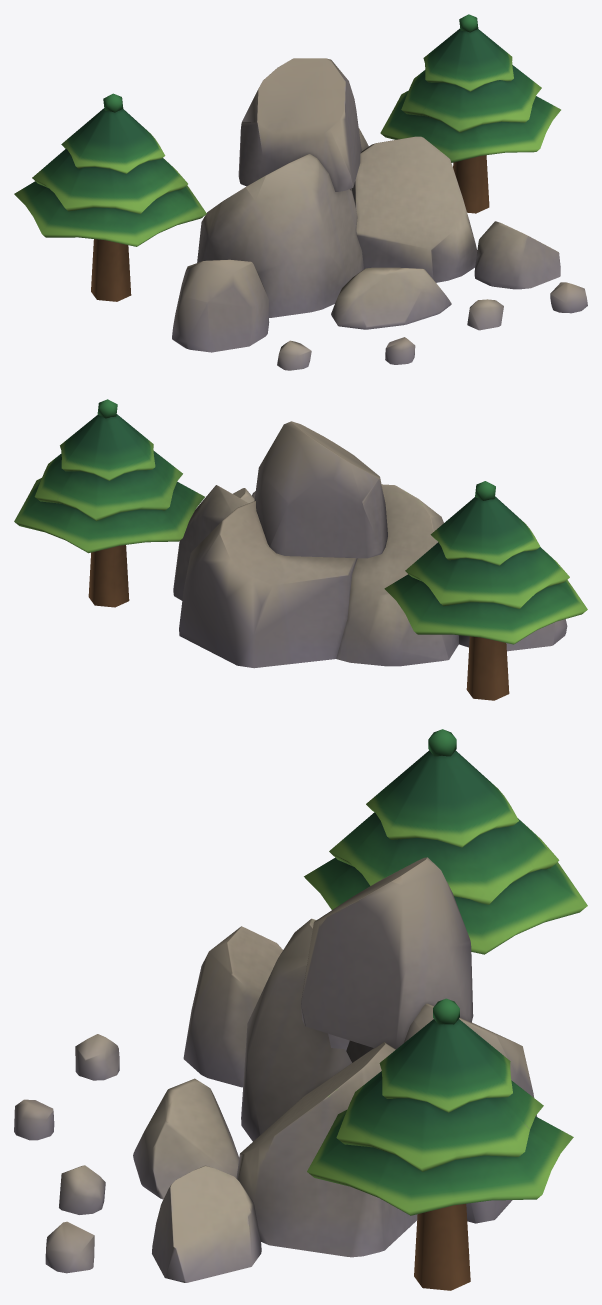
File: crag.glb
The picture shows the model from 3 angles, top to bottom: view 1: azimuth 30°, elevation 25°; view 2: azimuth 150°, elevation 25°; view 3: azimuth 270°, elevation 25°; orthographic projection. The views are drawn at different scales.
Parts seen in each view (by area): view 1: crag; view 2: crag; view 3: crag.
Part boxes in pixels (bbox=[...]): crag: bbox=[14, 14, 587, 370]; crag: bbox=[14, 399, 587, 700]; crag: bbox=[14, 729, 587, 1290].
Bounding box in the file's own units: 1.41 × 0.5172 × 0.9113.
1 material, 1 textured.
